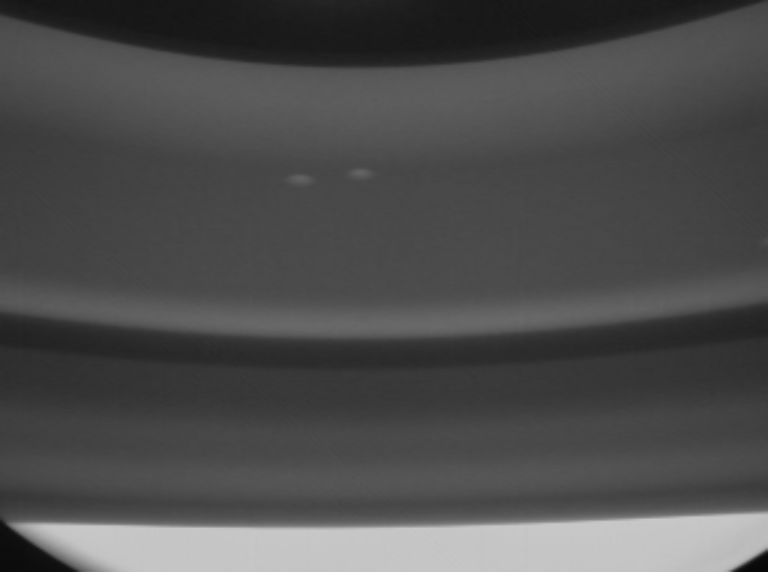defect: (345, 163, 381, 192)
